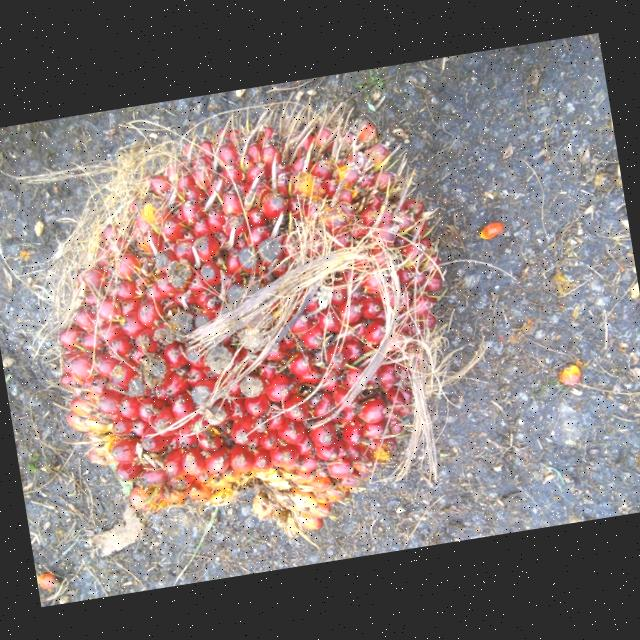Ripe: (51, 114, 443, 549)
